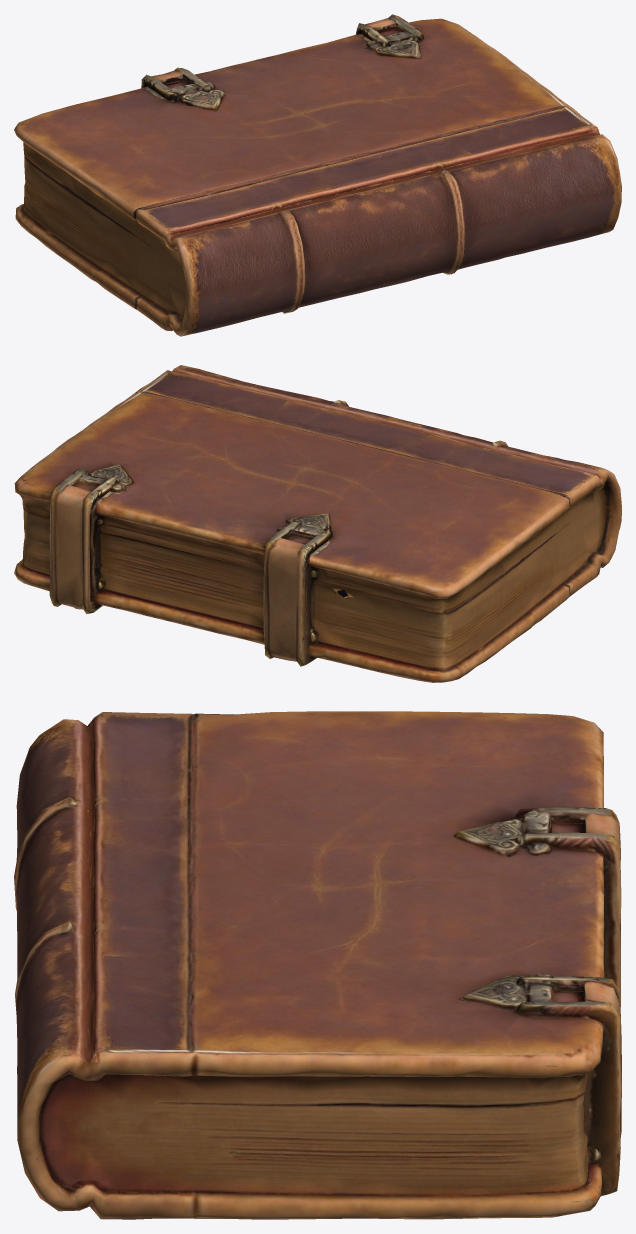
Rendered from BookRavens.fbx.
3 views of the same model, one above another, from view 1: azimuth 30°, elevation 25°; view 2: azimuth 150°, elevation 25°; view 3: azimuth 270°, elevation 25° (orthographic). The views are drawn at different scales.
Visible parts, largest first — view 1: Mesh1.0; view 2: Mesh1.0; view 3: Mesh1.0.
Part boxes in pixels (x1,y1,x2,y2): Mesh1.0: [14, 14, 621, 336]; Mesh1.0: [14, 365, 621, 682]; Mesh1.0: [14, 711, 621, 1219].
Bounding box in the file's own units: 191 × 49.01 × 140.
Materials: 1 (1 with a texture image).
